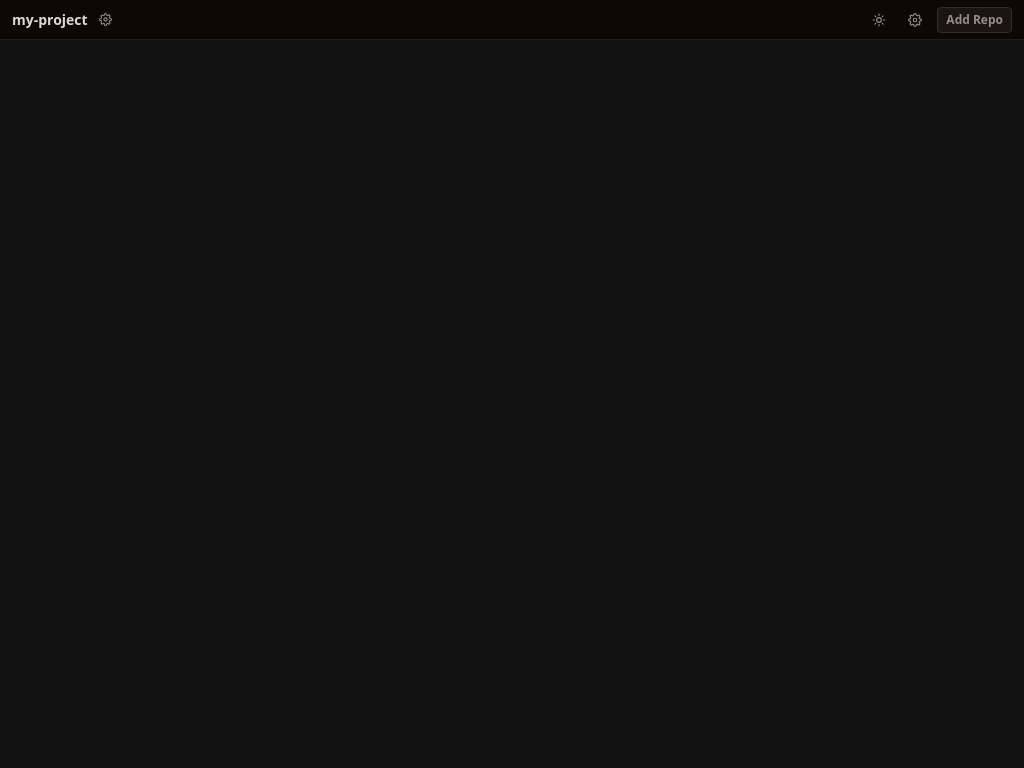
Test: TitleBar repo context menu › closing RepoSettingsDialog via close button hides it
This screenshot has width=1024, height=768.
Right-click the text with test id "repo-row-repo_abc123" at (50, 20), box [12,10,88,30]
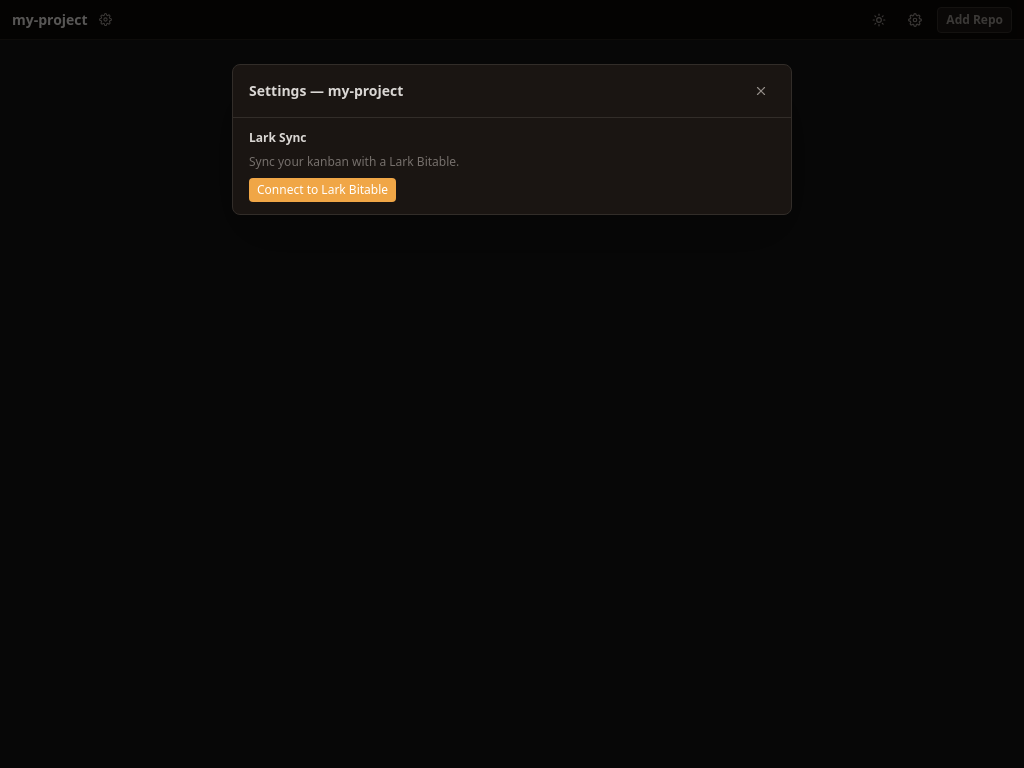
Expected: the element with test id "binding-empty" is shown, [249,153,459,202]
Click the button with test id "repo-settings-close" at (761, 91), box [747,77,775,105]
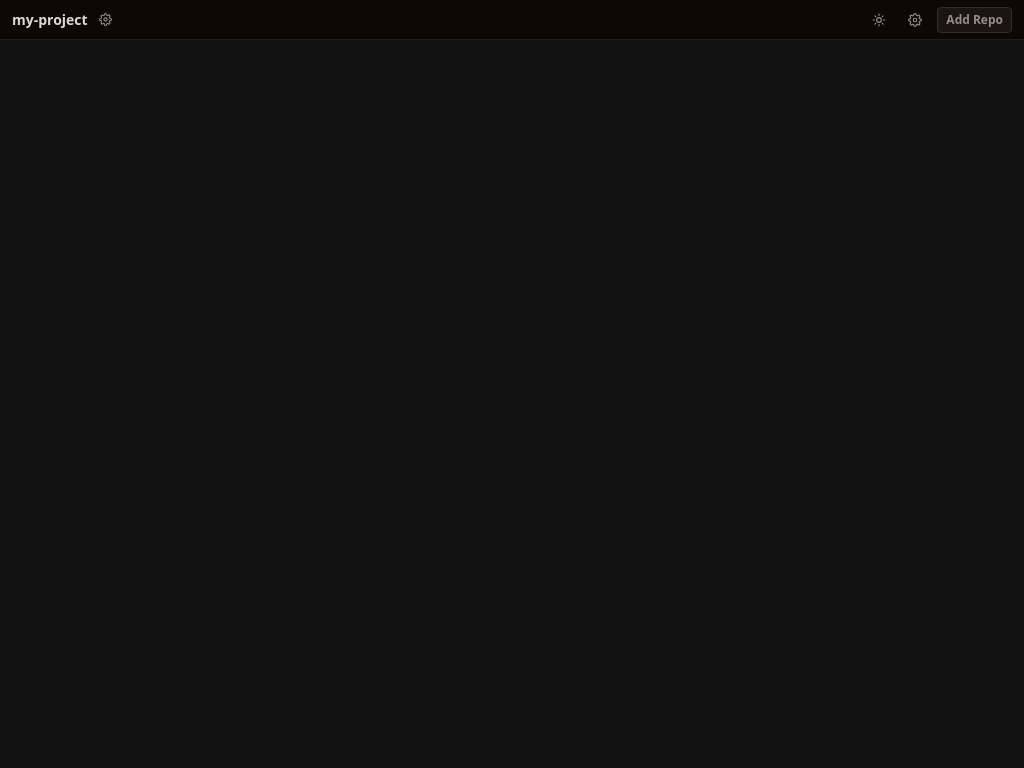
Expected: the element with test id "binding-empty" is gone
